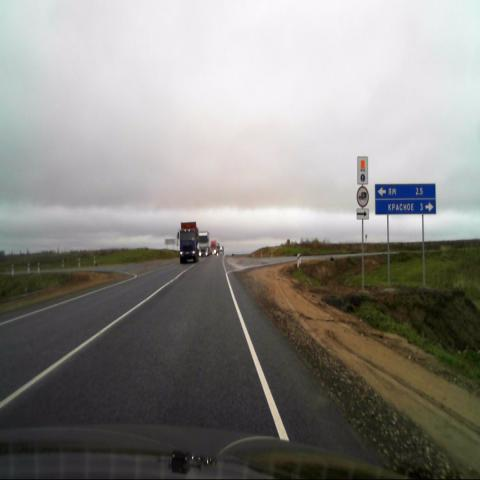3_4: (358, 186, 368, 206)
4_8_2: (357, 155, 368, 185)
